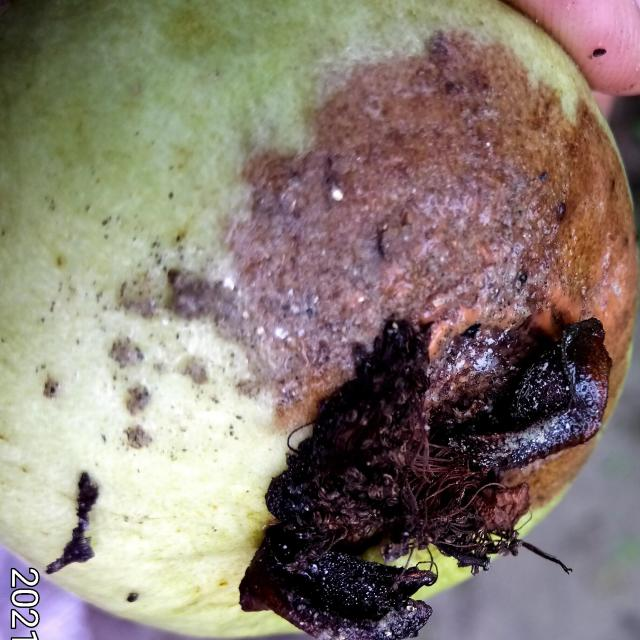Styler and Root: (170, 33, 636, 636)
